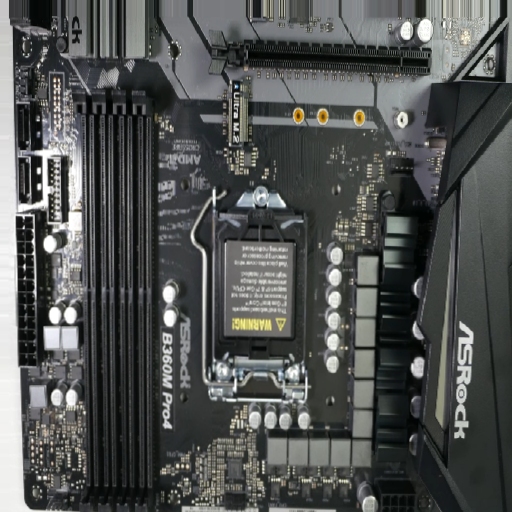CPU: (208, 187, 309, 404)
GPU: (206, 28, 434, 76)
MOTHERBOARD: (28, 1, 510, 512)
RAM: (70, 87, 155, 505)
SSD: (225, 80, 249, 150)
